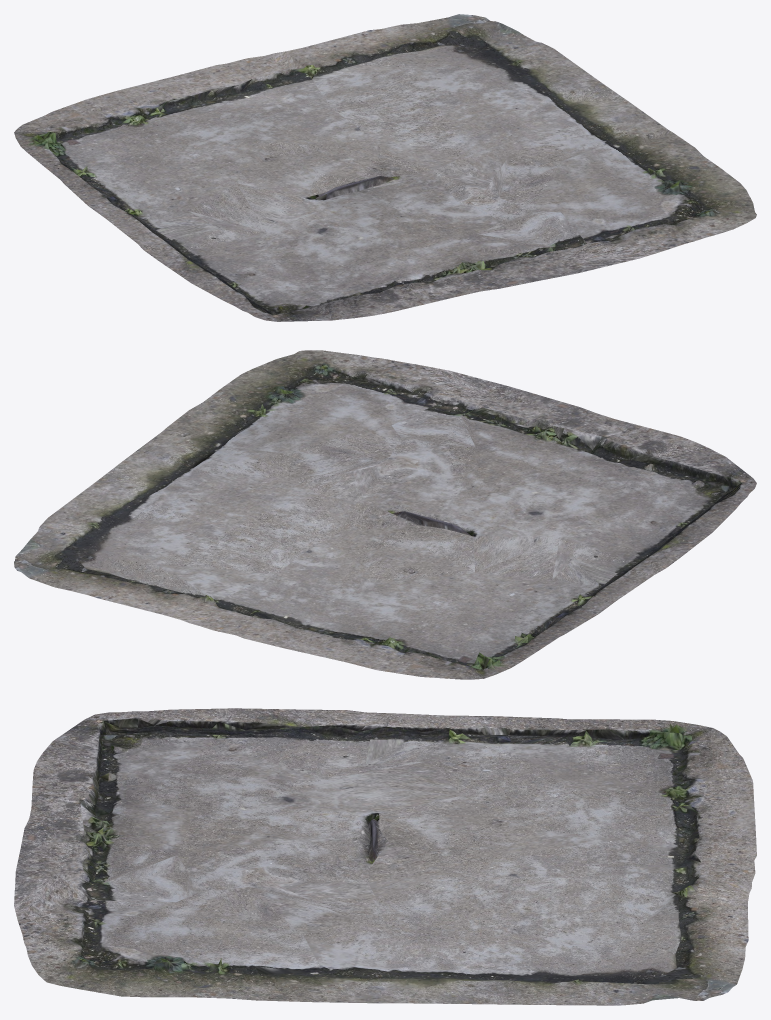
The model's file is Old_manhole_cover.fbx.
The picture shows the model from 3 angles, top to bottom: view 1: azimuth 30°, elevation 25°; view 2: azimuth 150°, elevation 25°; view 3: azimuth 270°, elevation 25°; orthographic projection. The views are drawn at different scales.
Visible parts, largest first — view 1: Old_manhole_cover; view 2: Old_manhole_cover; view 3: Old_manhole_cover.
Boxes of the visible parts, x1,y1,x2,y2 form: Old_manhole_cover: (14,14,756,321); Old_manhole_cover: (14,350,756,679); Old_manhole_cover: (14,708,756,1005).
Bounding box in the file's own units: 71.49 × 2.74 × 75.77.
Materials: 1 (1 with a texture image).
